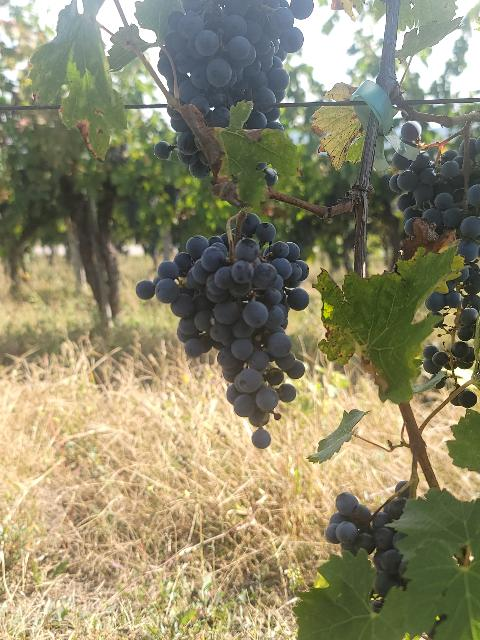grapes: (136, 214, 310, 449), (390, 139, 480, 375), (158, 0, 312, 130), (372, 494, 408, 598), (325, 492, 375, 554), (168, 109, 208, 171)
